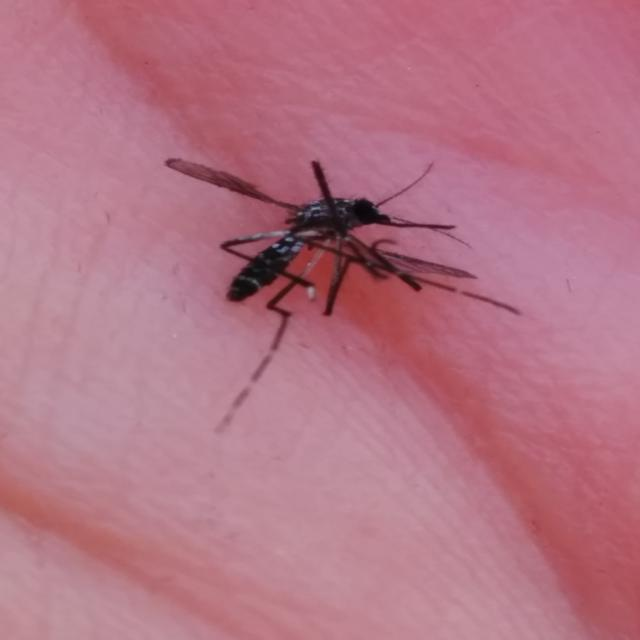albopictus: (166, 141, 496, 373)
